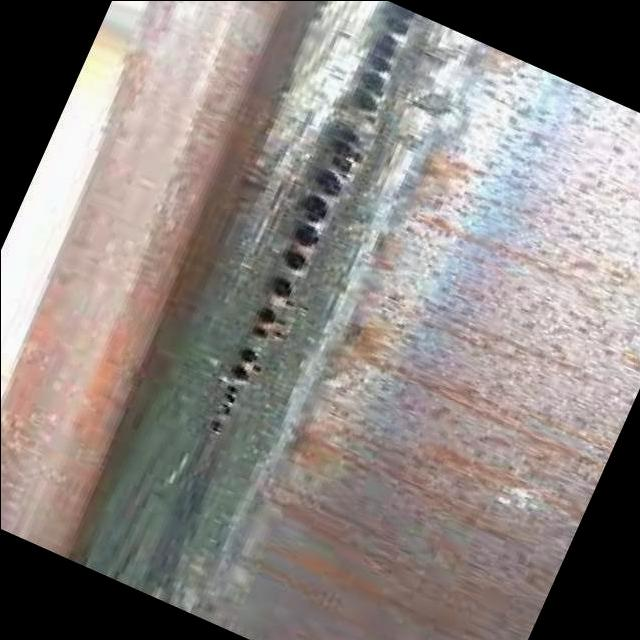defect: (249, 1, 419, 342), (207, 341, 266, 441)
